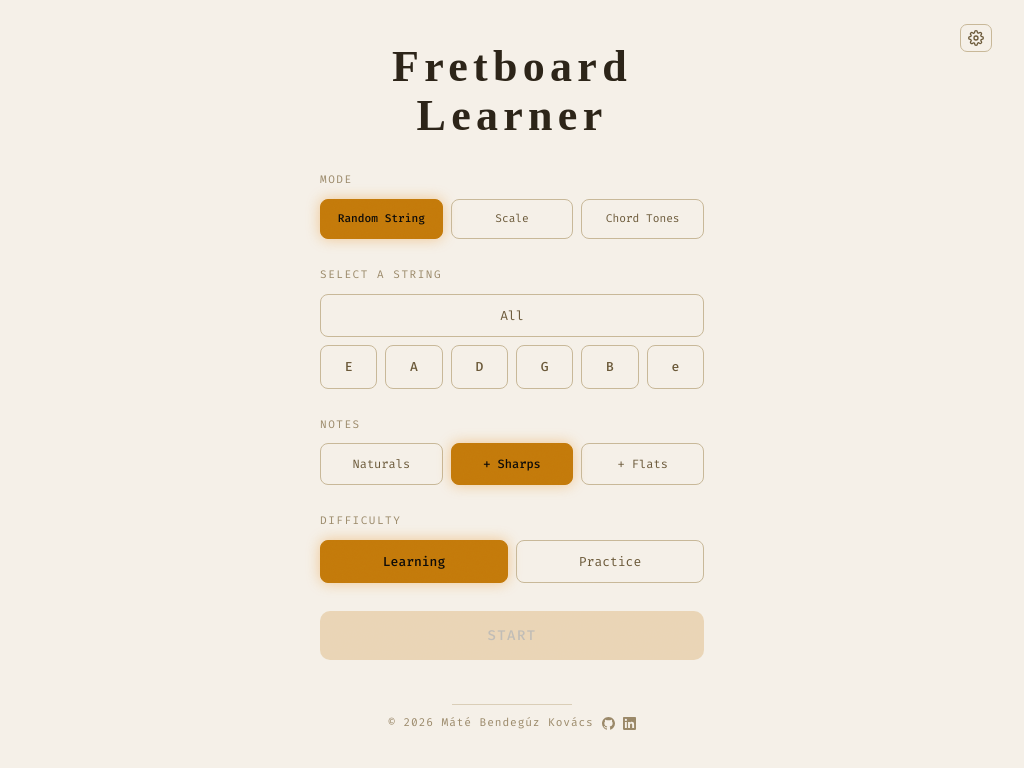
GameScreen — static structure › renders the target note, heard indicator, score, and quit button
This screenshot has width=1024, height=768.
Click the button "A" at [414, 367], box [385, 345, 443, 389]
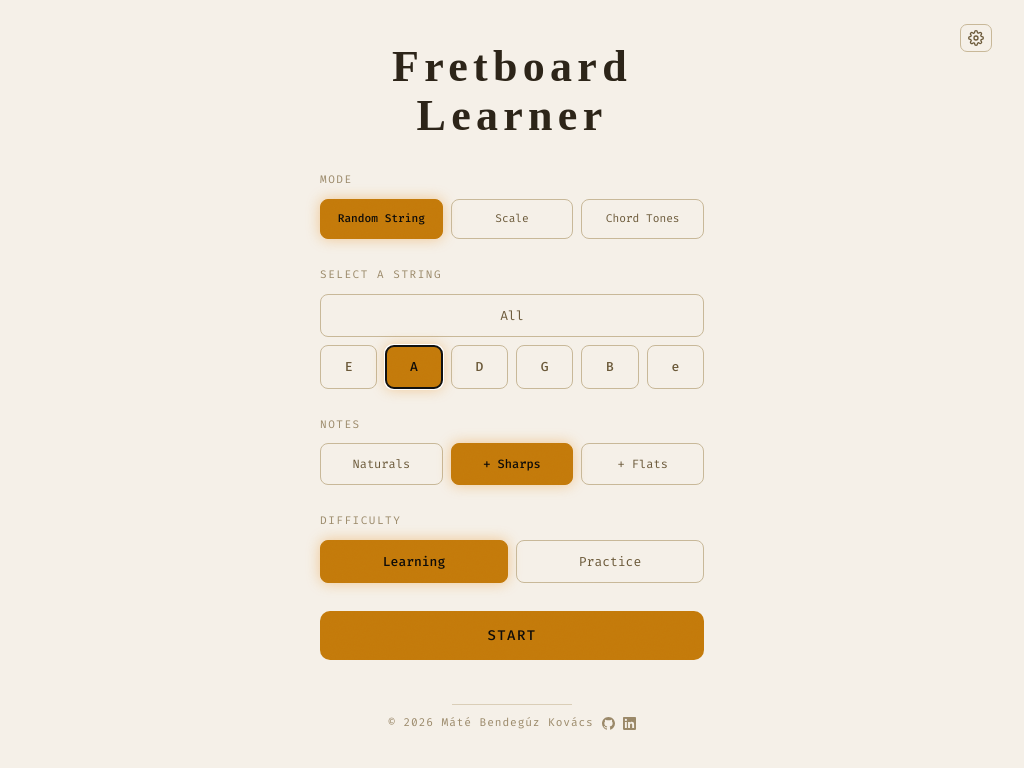
Click the button "Start" at [512, 636], box [320, 611, 704, 660]
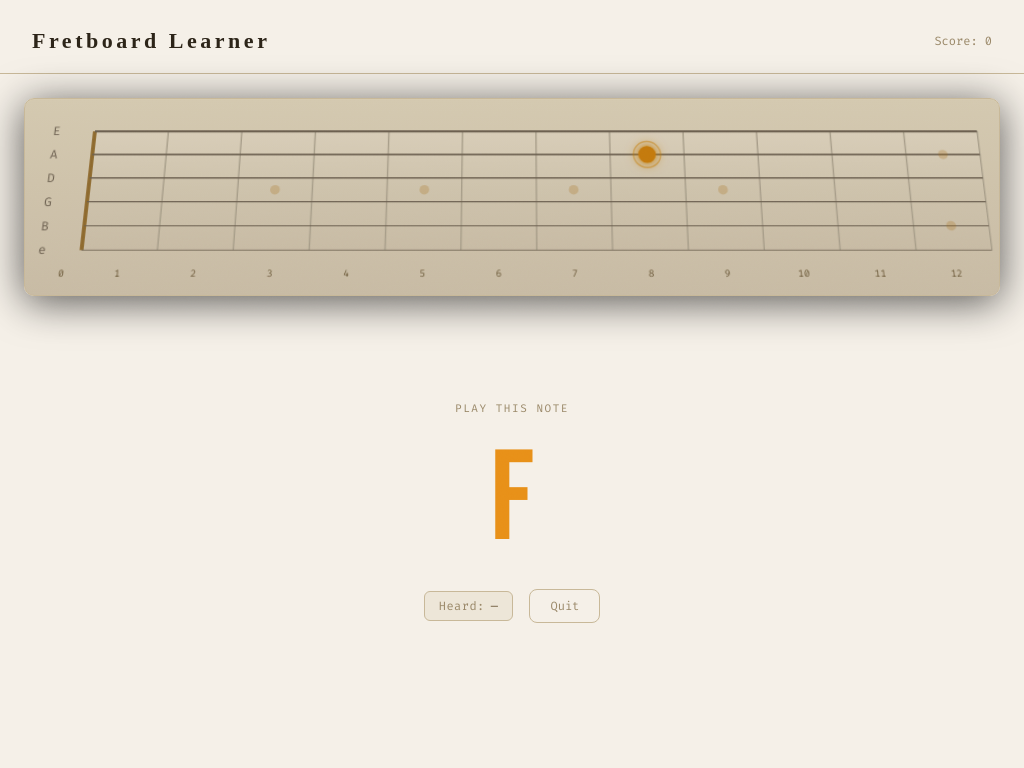
Now the text with test id "heard-note" reads "—", box [491, 598, 498, 614]
Now the text with test id "score" shows "Score:", box [934, 32, 985, 48]
Now the button "Quit" is shown, box [530, 589, 600, 623]
